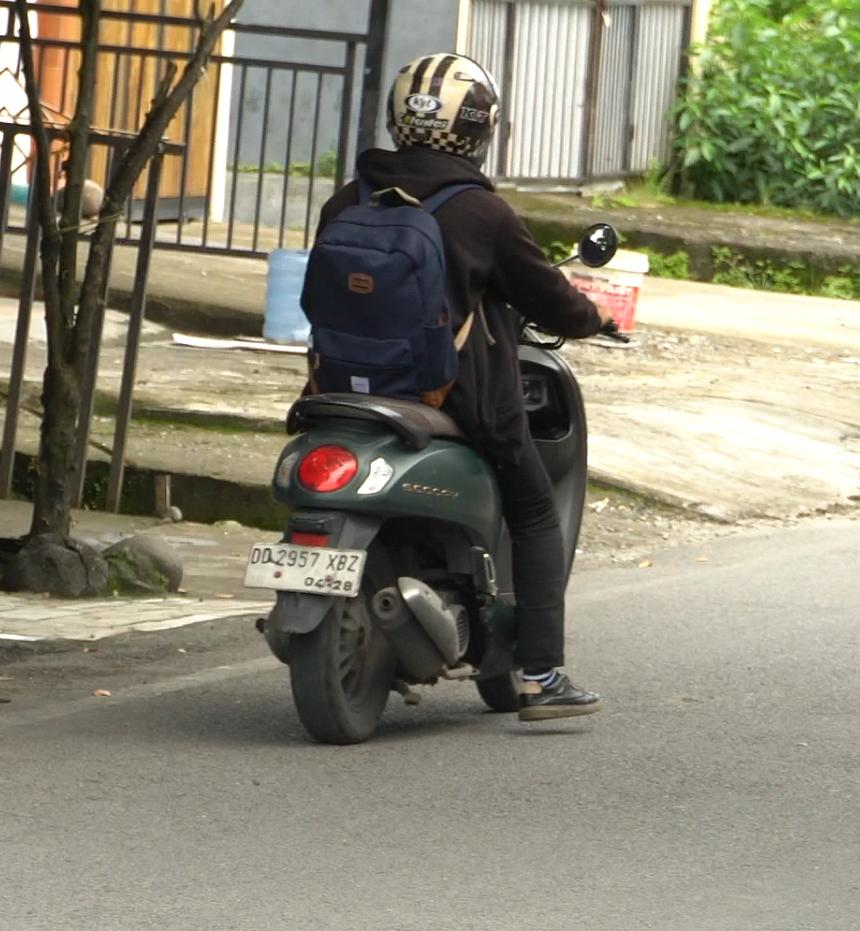number-plate: (236, 541, 365, 599)
